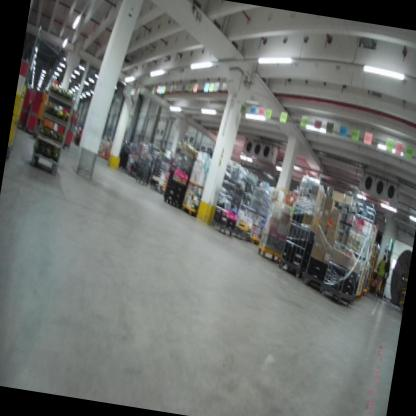pallet_truck: (30, 84, 64, 148)
